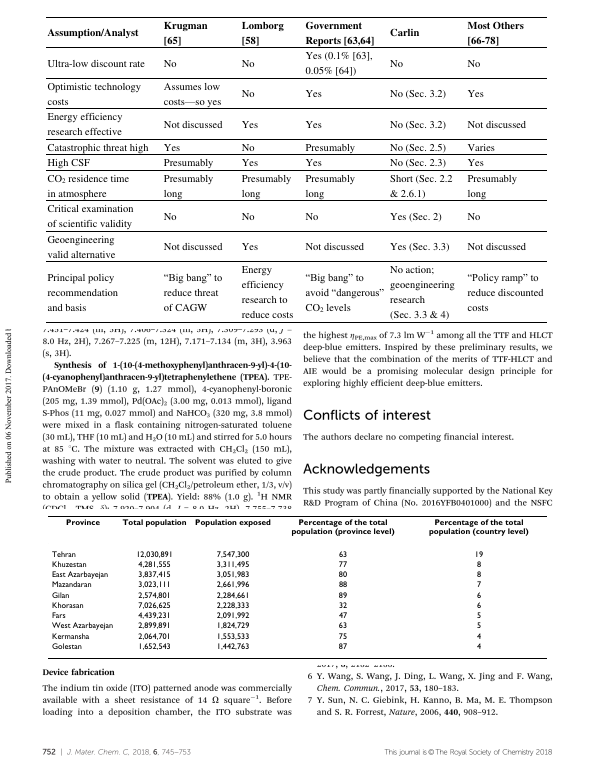borderless: (46, 15, 547, 322), (47, 514, 547, 658)
cell: (389, 263, 456, 322), (305, 269, 385, 315), (466, 269, 545, 314), (46, 271, 119, 314), (241, 263, 294, 322), (163, 269, 223, 314), (46, 80, 142, 108), (46, 202, 135, 231), (46, 172, 130, 200), (46, 110, 123, 139), (305, 18, 375, 47), (305, 49, 374, 78), (46, 233, 116, 261), (290, 519, 395, 537), (389, 172, 454, 200), (428, 519, 529, 537), (466, 18, 525, 47), (163, 80, 222, 109), (466, 172, 518, 200), (163, 172, 214, 200), (241, 172, 292, 200), (305, 172, 356, 200), (46, 141, 149, 154), (163, 18, 209, 47), (46, 26, 139, 40), (46, 57, 146, 70), (241, 18, 285, 47), (389, 240, 451, 254), (466, 240, 527, 254), (163, 240, 223, 254), (305, 240, 365, 254), (389, 87, 447, 101), (389, 156, 447, 170), (466, 118, 527, 131), (163, 118, 223, 131), (389, 118, 447, 131), (389, 141, 447, 154), (163, 156, 214, 170), (389, 210, 443, 223), (194, 519, 271, 528), (305, 141, 356, 154), (46, 156, 91, 170), (121, 519, 187, 528), (50, 622, 114, 631), (50, 571, 109, 580), (389, 26, 420, 40), (50, 632, 90, 642), (466, 141, 496, 154), (135, 550, 173, 560), (50, 581, 92, 590), (50, 560, 87, 570), (215, 550, 250, 560), (215, 560, 250, 570), (215, 591, 250, 601), (215, 601, 250, 611), (215, 632, 250, 642), (215, 642, 250, 652), (137, 560, 171, 570), (137, 591, 171, 601), (50, 601, 84, 611), (137, 601, 171, 611), (137, 632, 171, 642), (137, 642, 171, 652), (50, 642, 82, 652), (65, 519, 100, 528), (215, 571, 250, 580), (215, 581, 250, 590), (215, 612, 250, 621), (215, 622, 250, 631), (137, 571, 171, 580), (137, 581, 171, 590), (137, 612, 171, 621), (137, 622, 171, 631), (466, 87, 485, 101), (466, 156, 485, 170), (50, 550, 76, 560), (305, 87, 323, 101), (241, 156, 259, 170), (305, 156, 323, 170), (241, 240, 259, 254), (241, 118, 259, 131), (305, 118, 323, 131), (163, 141, 181, 154), (241, 87, 256, 101), (50, 591, 70, 601), (163, 57, 178, 70), (241, 57, 256, 70), (389, 57, 404, 70), (466, 57, 481, 70), (241, 141, 256, 154), (163, 210, 178, 223), (241, 210, 256, 223), (466, 210, 481, 223), (305, 210, 319, 223), (50, 612, 66, 621), (337, 550, 348, 560), (473, 550, 484, 560), (337, 560, 348, 570), (337, 591, 348, 601), (337, 601, 348, 611), (337, 632, 348, 642), (337, 642, 348, 652), (337, 571, 348, 580), (337, 581, 348, 590), (337, 612, 348, 621), (337, 622, 348, 631), (475, 601, 482, 611), (475, 642, 482, 652), (475, 571, 482, 580), (475, 581, 482, 590), (475, 612, 482, 621), (475, 622, 482, 631), (475, 560, 481, 570), (475, 591, 481, 601), (475, 632, 481, 642)
